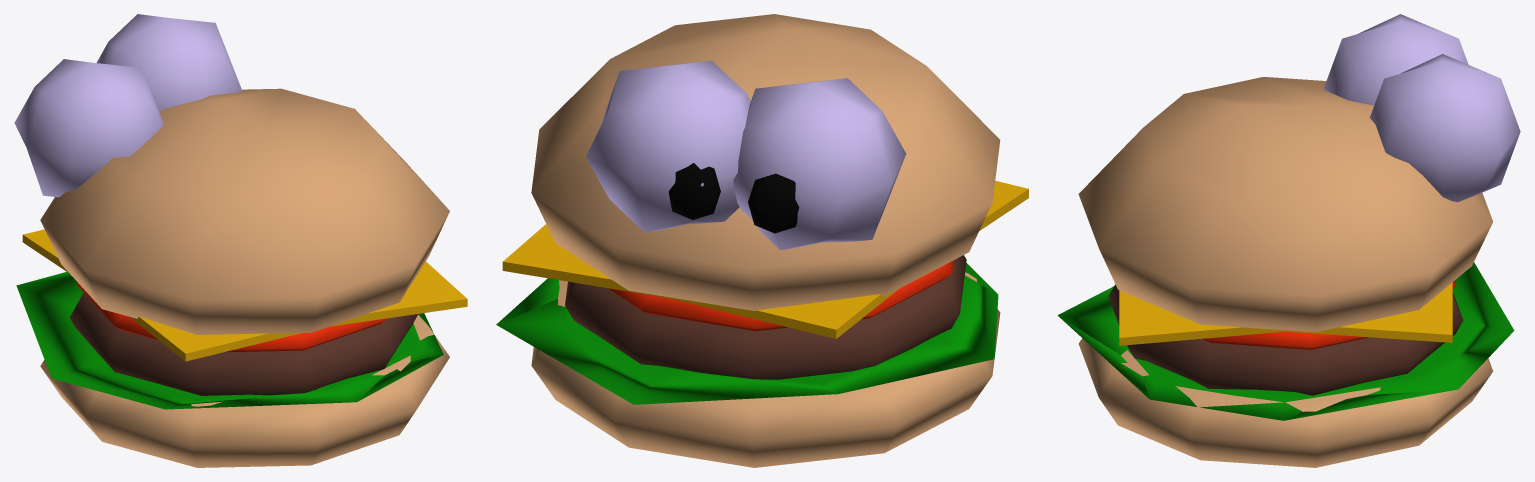
Rendered from burger-geo.fbx.
The picture shows the model from 3 angles, left to right: view 1: azimuth 30°, elevation 25°; view 2: azimuth 150°, elevation 25°; view 3: azimuth 270°, elevation 25°; orthographic projection. The views are drawn at different scales.
Parts seen in each view (by area): view 1: bunBottom, pCube1 (×2), bunTop, patty, lettuce, cheese, tomato; view 2: bunBottom, pCube1 (×2), bunTop, patty, lettuce, cheese, pCube2 (×2), tomato; view 3: bunBottom, pCube1 (×2), bunTop, lettuce, patty, cheese, tomato.
Boxes of the visible parts, left/top/right/bottom form: bunBottom: left=40, top=88, right=449, bottom=334; pCube1 (×2): left=14, top=14, right=242, bottom=197; bunTop: left=40, top=315, right=449, bottom=467; patty: left=69, top=292, right=417, bottom=395; lettuce: left=16, top=272, right=443, bottom=409; cheese: left=22, top=229, right=467, bottom=361; tomato: left=77, top=283, right=387, bottom=352; bunBottom: left=531, top=14, right=1000, bottom=310; pCube1 (×2): left=586, top=60, right=906, bottom=250; bunTop: left=531, top=272, right=1000, bottom=467; patty: left=565, top=255, right=966, bottom=379; lettuce: left=496, top=263, right=998, bottom=404; cheese: left=502, top=180, right=1028, bottom=338; pCube2 (×2): left=668, top=163, right=799, bottom=233; tomato: left=607, top=260, right=953, bottom=331; bunBottom: left=1078, top=77, right=1493, bottom=332; pCube1 (×2): left=1323, top=14, right=1520, bottom=202; bunTop: left=1078, top=338, right=1493, bottom=467; lettuce: left=1057, top=262, right=1514, bottom=420; patty: left=1108, top=284, right=1463, bottom=395; cheese: left=1119, top=282, right=1452, bottom=345; tomato: left=1202, top=281, right=1456, bottom=349.
Bounding box in the file's own units: 1.34 × 1.11 × 1.43.
